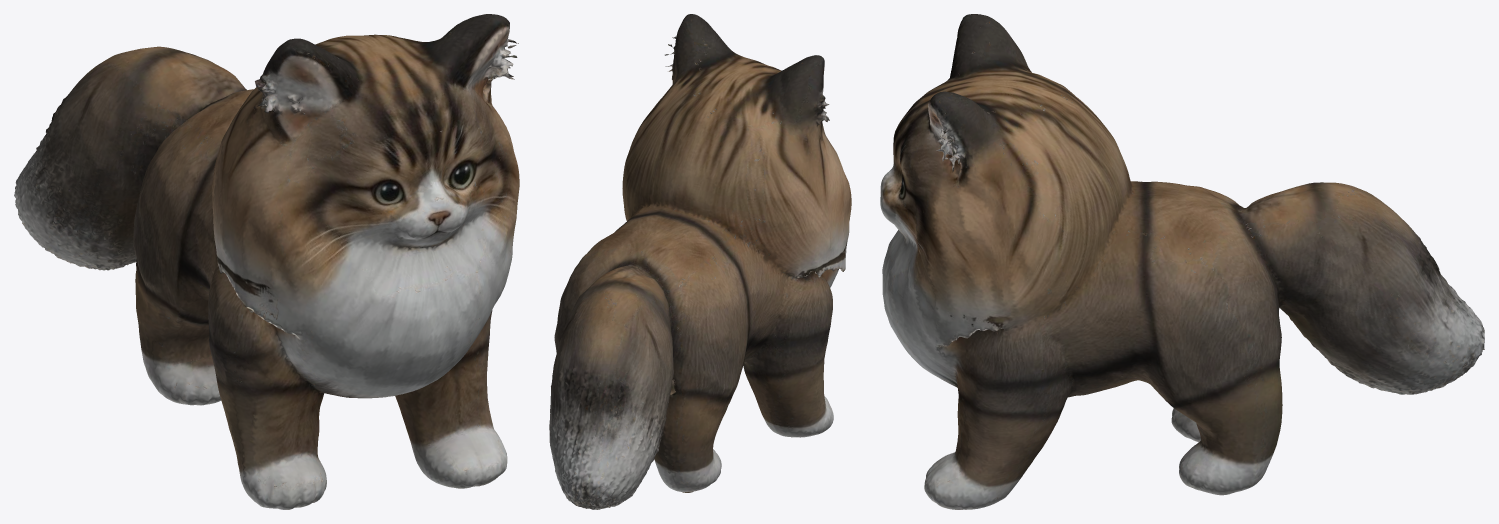
File: mesh-norweg.glb
3 views of the same model, side by side, from view 1: azimuth 30°, elevation 25°; view 2: azimuth 150°, elevation 25°; view 3: azimuth 270°, elevation 25° (orthographic). The views are drawn at different scales.
Bounding box in the file's own units: 0.905 × 1.53 × 2.
1 material, 1 textured.
